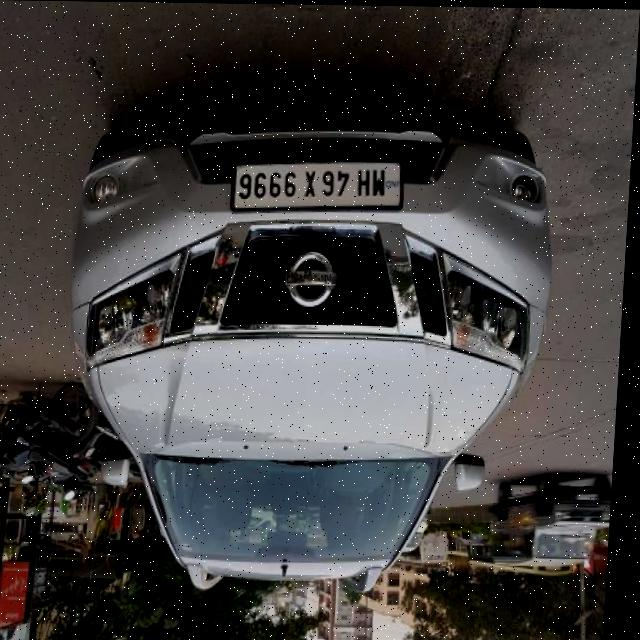plate: (234, 158, 408, 214)
